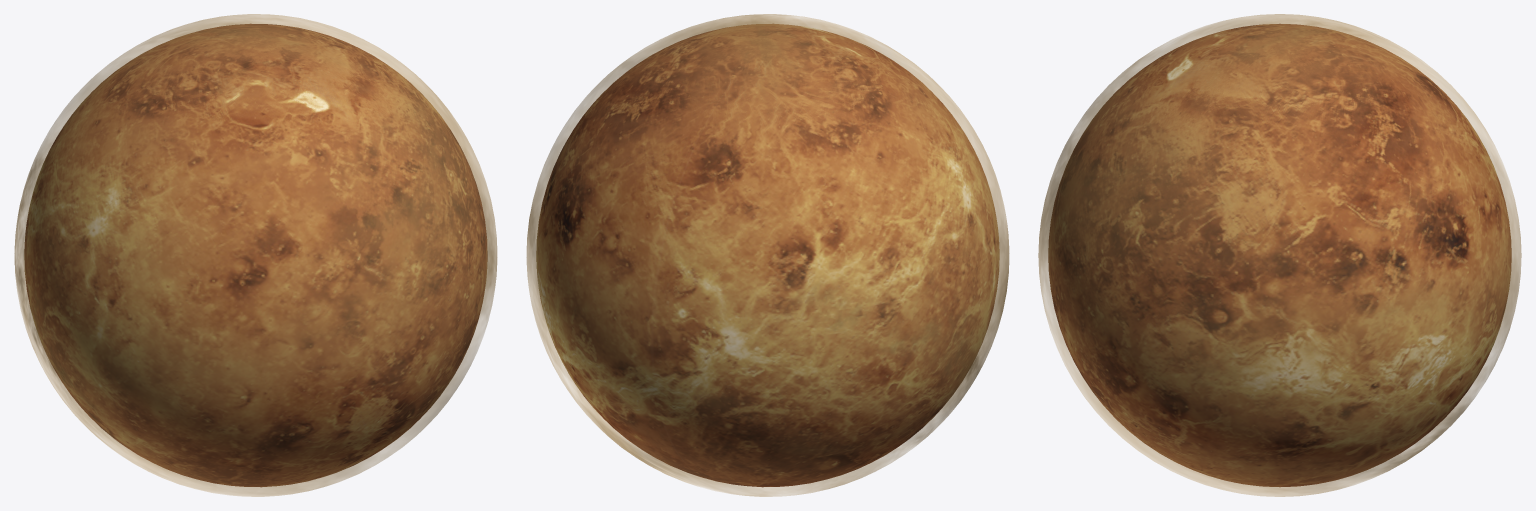
The model's file is venus.gltf.
3 views of the same model, side by side, from view 1: azimuth 30°, elevation 25°; view 2: azimuth 150°, elevation 25°; view 3: azimuth 270°, elevation 25° (orthographic).
Parts seen in each view (by area): view 1: Venus_1; view 2: Venus_1; view 3: Venus_1.
Part boxes in pixels (<box>): Venus_1: <box>14,14,497,496</box>; Venus_1: <box>526,14,1009,496</box>; Venus_1: <box>1038,14,1521,496</box>.
Size of the model in its own units: 0.0121 by 0.0121 by 0.0121.
Materials: 2 (2 with a texture image).
